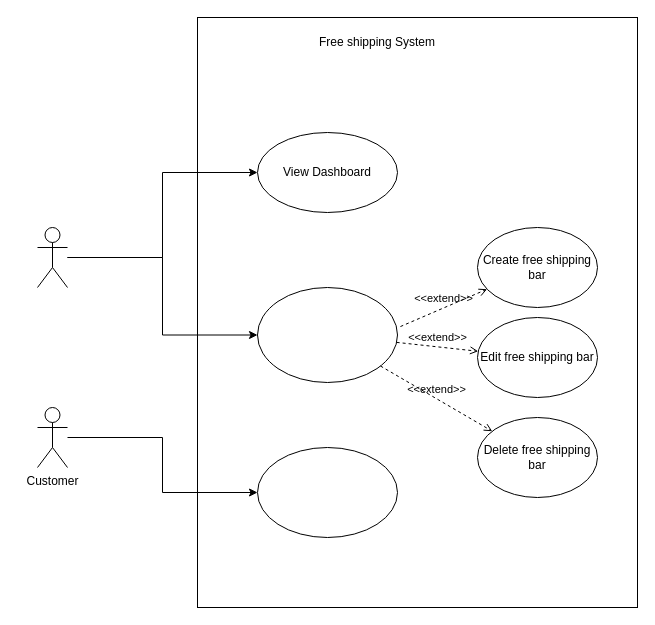
The diagram is 655 pixels wide and 625 high, and some of its shapes have lost their labels. The shapes that lost their labels are listed below. From the top down, each one's centre as x and y in pixels, then its label:
the point at 52,257: Administrator
the point at 327,334: Manage Booster Free shipping
the point at 327,492: View free shipping bar
